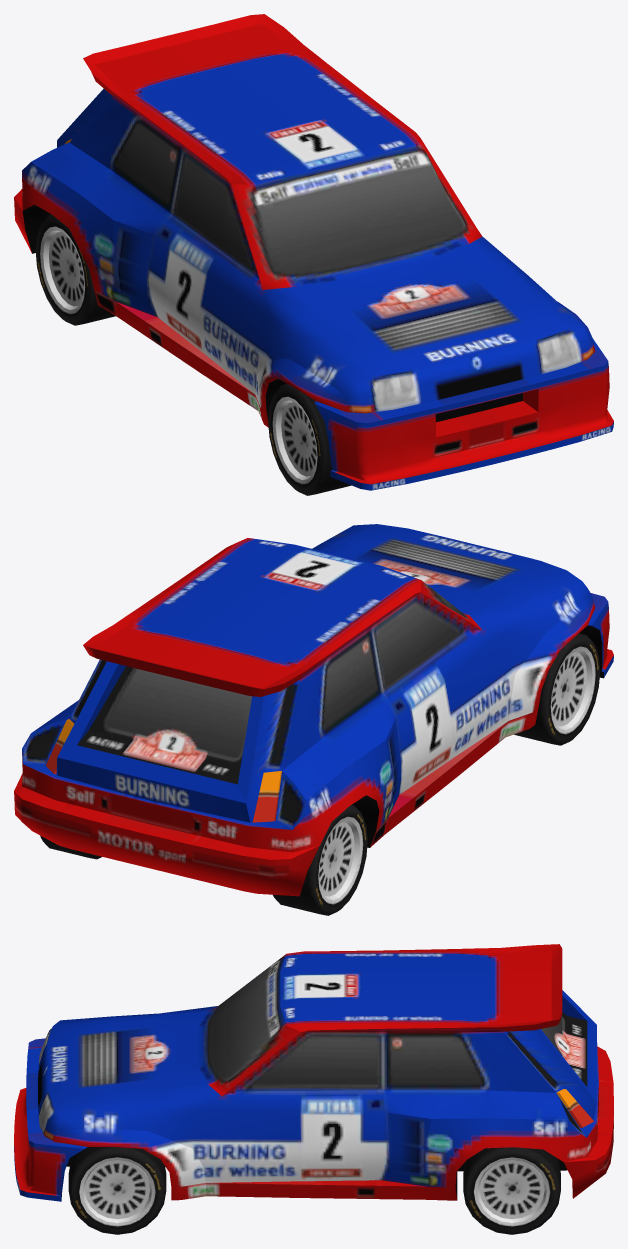
The model's file is Renault R5.fbx.
3 views of the same model, one above another, from view 1: azimuth 30°, elevation 25°; view 2: azimuth 150°, elevation 25°; view 3: azimuth 270°, elevation 25° (orthographic). The views are drawn at different scales.
Parts seen in each view (by area): view 1: Renault R5, L_front_wheel_geo #370636.003, L_front_wheel_geo #370636.002; view 2: Renault R5, L_front_wheel_geo #370636.003, L_front_wheel_geo #370636.002; view 3: Renault R5, L_front_wheel_geo #370636, L_front_wheel_geo #370636.001.
Part boxes in pixels (x1,y1,x2,y2): Renault R5: (14,14,613,490); L_front_wheel_geo #370636.003: (268,384,351,495); L_front_wheel_geo #370636.002: (35,214,115,325); Renault R5: (14,524,613,896); L_front_wheel_geo #370636.003: (514,633,600,745); L_front_wheel_geo #370636.002: (273,804,367,915); Renault R5: (14,944,613,1201); L_front_wheel_geo #370636: (68,1147,166,1234); L_front_wheel_geo #370636.001: (463,1147,560,1234).
Bounding box in the file's own units: 178 × 133 × 367.
Materials: 5 (5 with a texture image).
